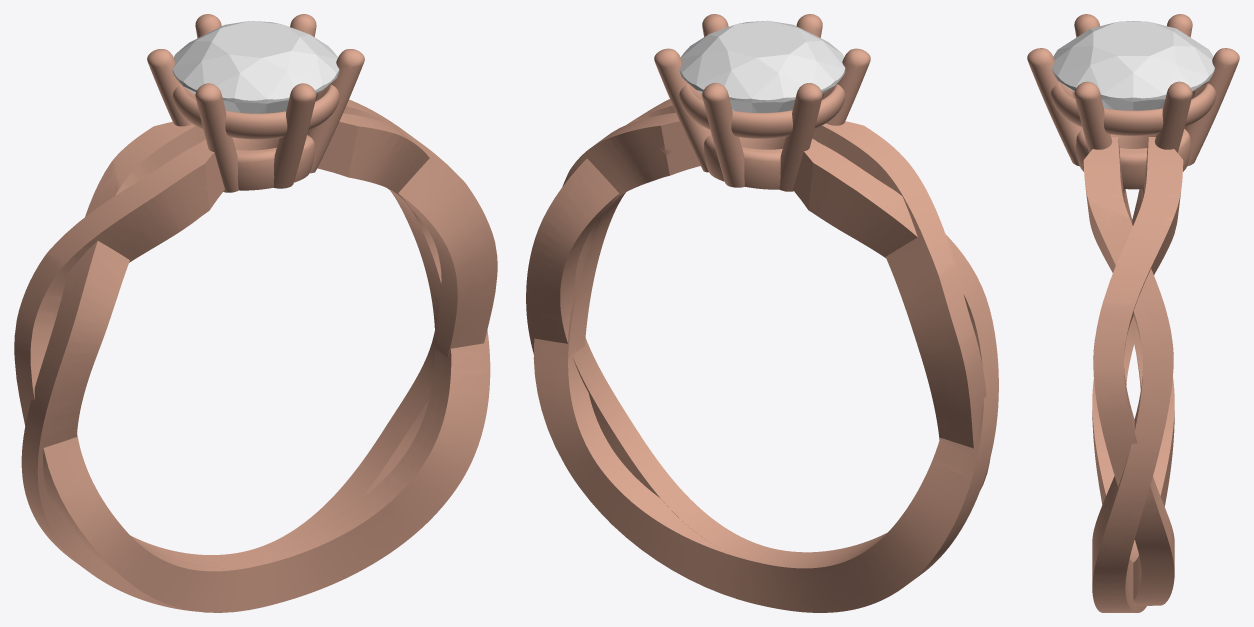
The model's file is diamond-round-rosegold-6prong-twist-nosidestones.glb.
The picture shows the model from 3 angles, left to right: view 1: azimuth 30°, elevation 25°; view 2: azimuth 150°, elevation 25°; view 3: azimuth 270°, elevation 25°; orthographic projection. The views are drawn at different scales.
Visible parts, largest first — view 1: metal.001, stone; view 2: metal.001, stone; view 3: metal.001, stone.
Part boxes in pixels (x1,y1,x2,y2): metal.001: (14,14,497,612); stone: (172,21,339,113); metal.001: (526,14,998,612); stone: (679,20,845,112); metal.001: (1027,14,1239,612); stone: (1052,21,1214,110).
Size of the model in its own units: 19.97 by 23.72 by 8.35.
